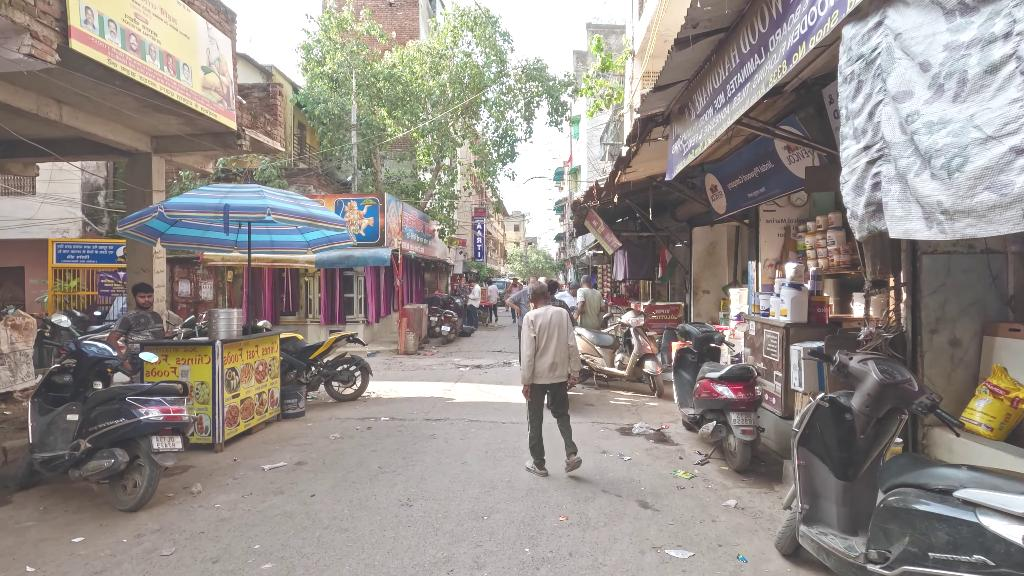garbage: (660, 540, 693, 568), (254, 459, 291, 474), (722, 491, 743, 511), (669, 467, 697, 480)
